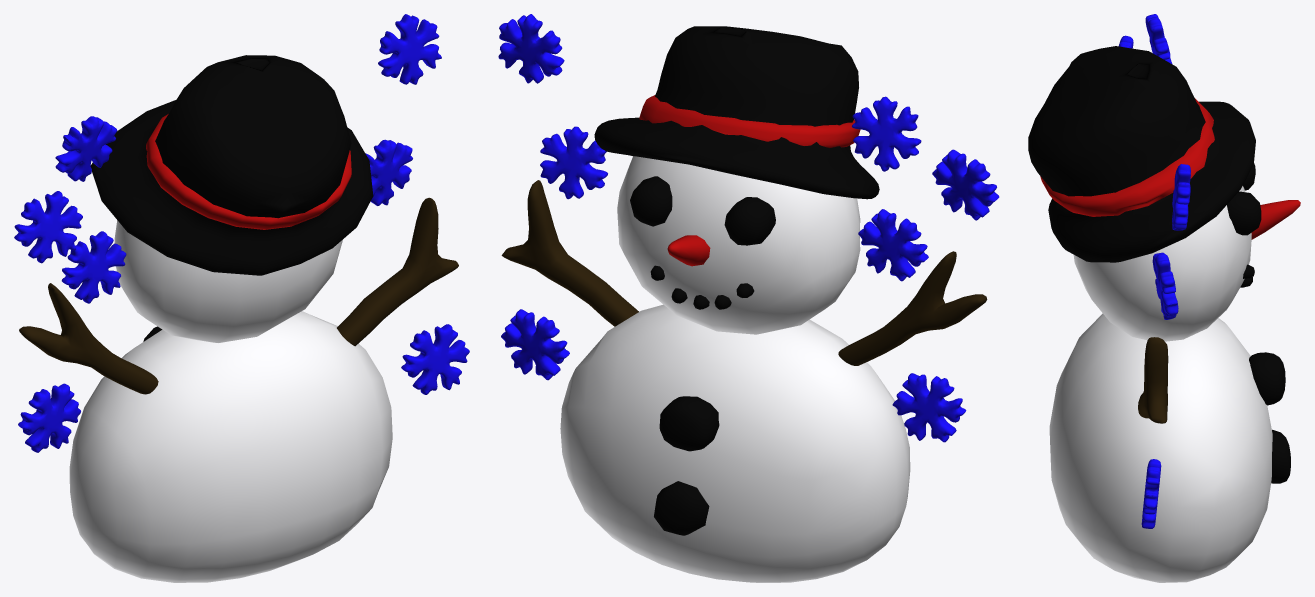
File: snowman FBX.FBX
The picture shows the model from 3 angles, left to right: view 1: azimuth 30°, elevation 25°; view 2: azimuth 150°, elevation 25°; view 3: azimuth 270°, elevation 25°; orthographic projection. The views are drawn at different scales.
Parts seen in each view (by area): view 1: S7, snowman2, S6, S8, S2, S13, S10, S11_01, S12, S11, S14, S15; view 2: S7, snowman2, S6, S8, S9, S2, S3, S14, S11, S15, S12, S11_01 (+4 smaller); view 3: S7, snowman2, S6, S2, S9, S8, S3, S15, S11_01, S10, S4, S14.
Boxes of the visible parts, x1,y1,x2,y2 form: S7: (69, 311, 392, 582); snowman2: (90, 55, 373, 275); S6: (114, 220, 342, 342); S8: (19, 197, 458, 394); S2: (146, 114, 351, 229); S13: (14, 191, 82, 263); S10: (401, 324, 469, 394); S11_01: (378, 14, 441, 84); S12: (61, 231, 126, 303); S11: (18, 383, 80, 452); S14: (55, 116, 117, 181); S15: (365, 139, 412, 205); S7: (560, 304, 910, 582); snowman2: (594, 26, 879, 199); S6: (617, 156, 860, 334); S8: (501, 180, 987, 365); S9: (654, 396, 719, 535); S2: (639, 95, 860, 147); S3: (630, 176, 775, 245); S14: (852, 96, 921, 171); S11: (892, 373, 966, 442); S15: (540, 126, 607, 199); S12: (858, 209, 928, 281); S11_01: (498, 14, 564, 83); S7: (1049, 313, 1272, 582); snowman2: (1028, 46, 1255, 262); S6: (1073, 186, 1251, 341); S2: (1040, 98, 1214, 216); S9: (1249, 352, 1290, 483); S8: (1138, 337, 1168, 423); S3: (1227, 163, 1261, 235); S15: (1152, 252, 1178, 319); S11_01: (1172, 164, 1190, 230); S10: (1141, 459, 1161, 528); S4: (1251, 200, 1300, 239); S14: (1145, 14, 1172, 63).
Bounding box in the file's own units: 22.28 × 23.01 × 11.65.
